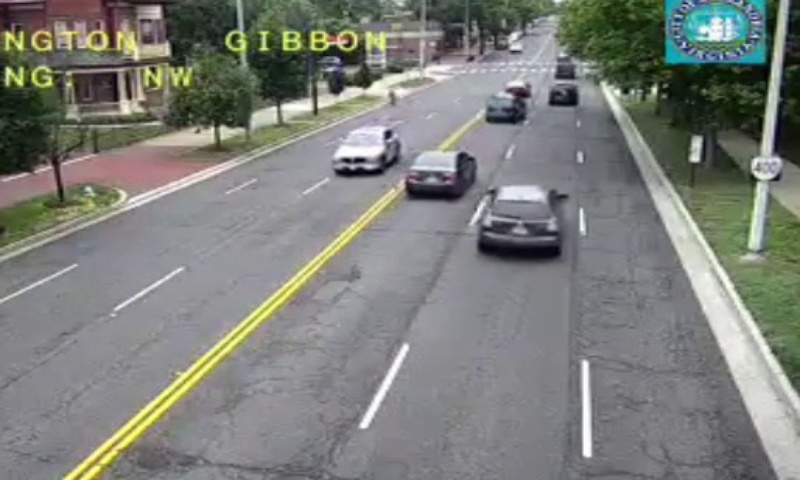car: (477, 189, 560, 249), (406, 152, 474, 193), (485, 94, 524, 122), (547, 83, 578, 105)
